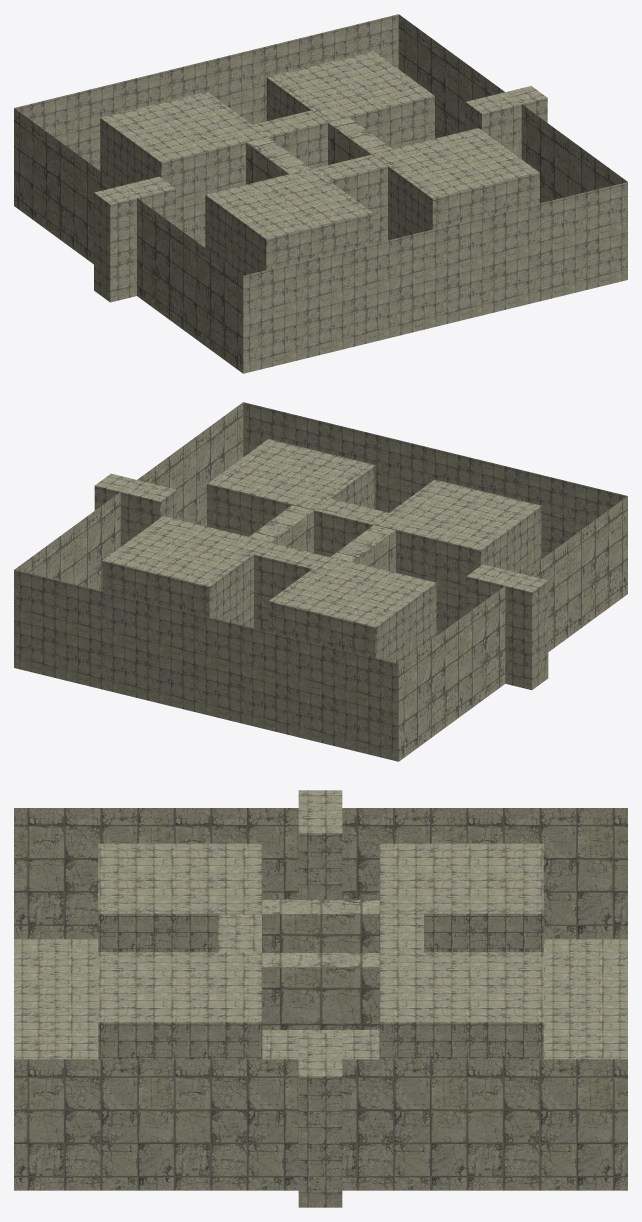
File: SM_LDFest_01.fbx
3 views of the same model, one above another, from view 1: azimuth 30°, elevation 25°; view 2: azimuth 150°, elevation 25°; view 3: azimuth 270°, elevation 25° (orthographic). The views are drawn at different scales.
Parts seen in each view (by area): view 1: SM_LDFest_01; view 2: SM_LDFest_01; view 3: SM_LDFest_01.
Part boxes in pixels (x1,y1,x2,y2): SM_LDFest_01: (14,14,627,373); SM_LDFest_01: (14,402,627,761); SM_LDFest_01: (14,790,627,1207).
Bounding box in the file's own units: 4030 × 863 × 3658.
